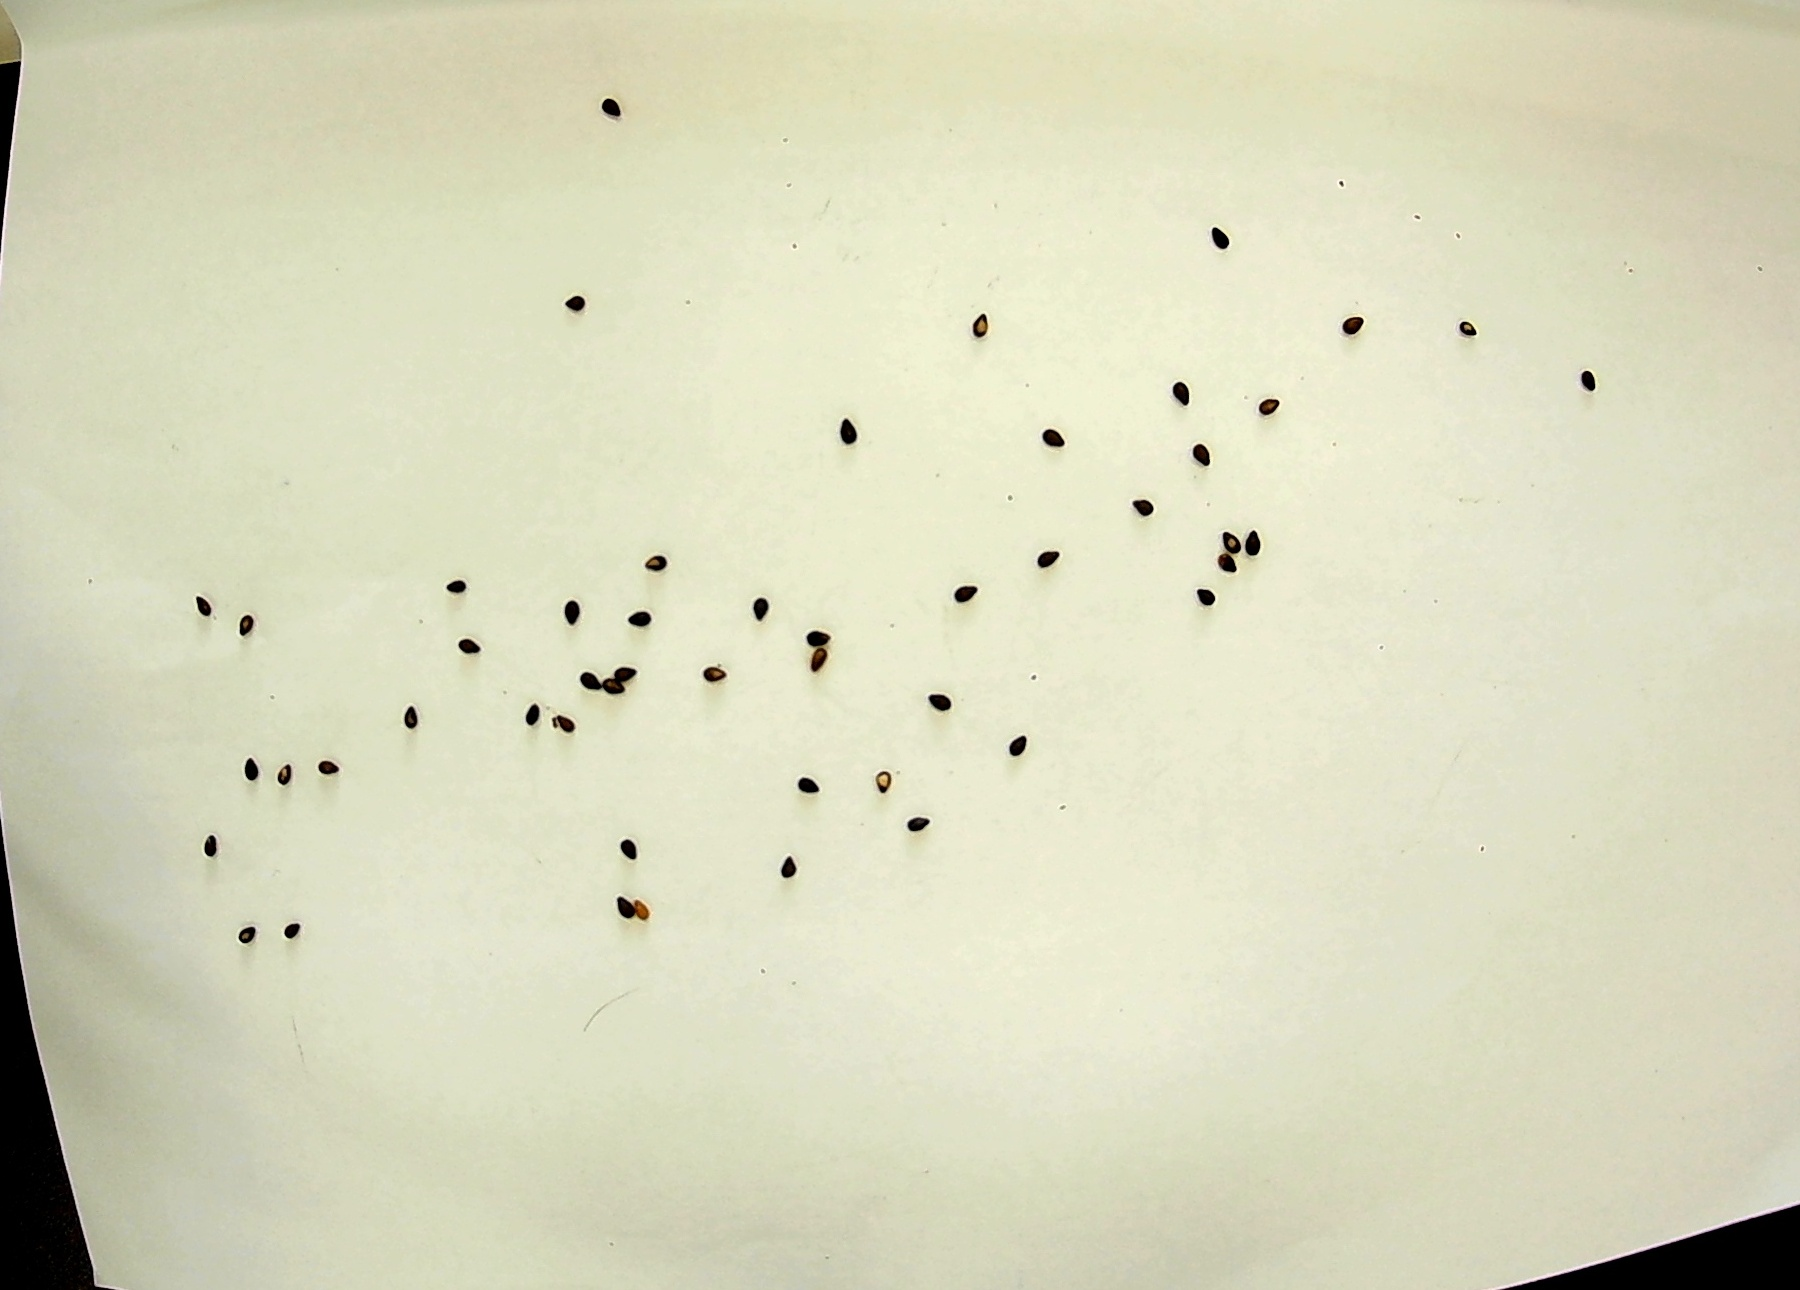sesami: (1185, 577, 1224, 627), (774, 764, 820, 806), (1319, 311, 1370, 345), (1007, 727, 1051, 766), (1173, 369, 1204, 423), (914, 679, 952, 720), (1125, 496, 1160, 537), (227, 912, 257, 961), (1026, 547, 1067, 581), (837, 408, 869, 451), (1208, 223, 1240, 265), (1259, 390, 1289, 433), (1447, 318, 1492, 348), (1213, 524, 1246, 561), (1204, 550, 1242, 584), (193, 824, 222, 866), (800, 625, 857, 646), (232, 607, 258, 651), (1242, 522, 1266, 570), (868, 761, 901, 794), (572, 665, 607, 697), (751, 592, 787, 623), (613, 831, 649, 861), (315, 746, 342, 787), (608, 894, 646, 923), (1196, 422, 1214, 482), (392, 701, 433, 727), (554, 706, 585, 741), (622, 605, 660, 632), (442, 634, 481, 660), (1042, 426, 1076, 457), (907, 808, 942, 838), (600, 99, 628, 135), (966, 307, 992, 345), (1568, 364, 1599, 396), (774, 853, 808, 882), (700, 665, 735, 692), (647, 553, 673, 589), (518, 697, 541, 734), (558, 289, 585, 322), (558, 605, 592, 631), (234, 757, 268, 783), (635, 896, 659, 933), (614, 660, 649, 684), (278, 919, 307, 947), (945, 584, 981, 606), (807, 649, 832, 681), (272, 764, 300, 792), (435, 577, 469, 599), (187, 593, 215, 618)
